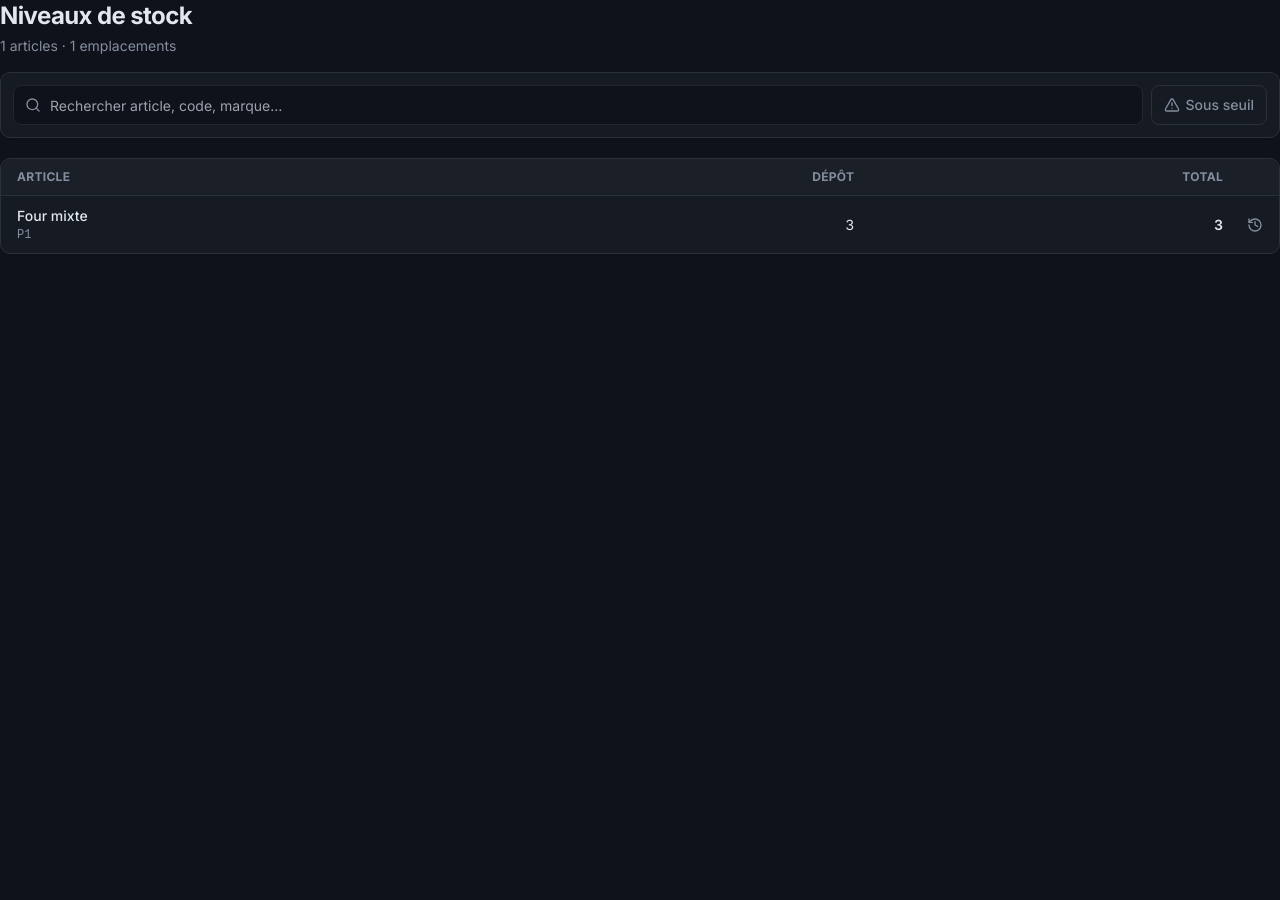
Test: stock levels › shows the movement history only for locations the user may see
Click the text "Four mixte" at (52,216), box [17,206,88,226]
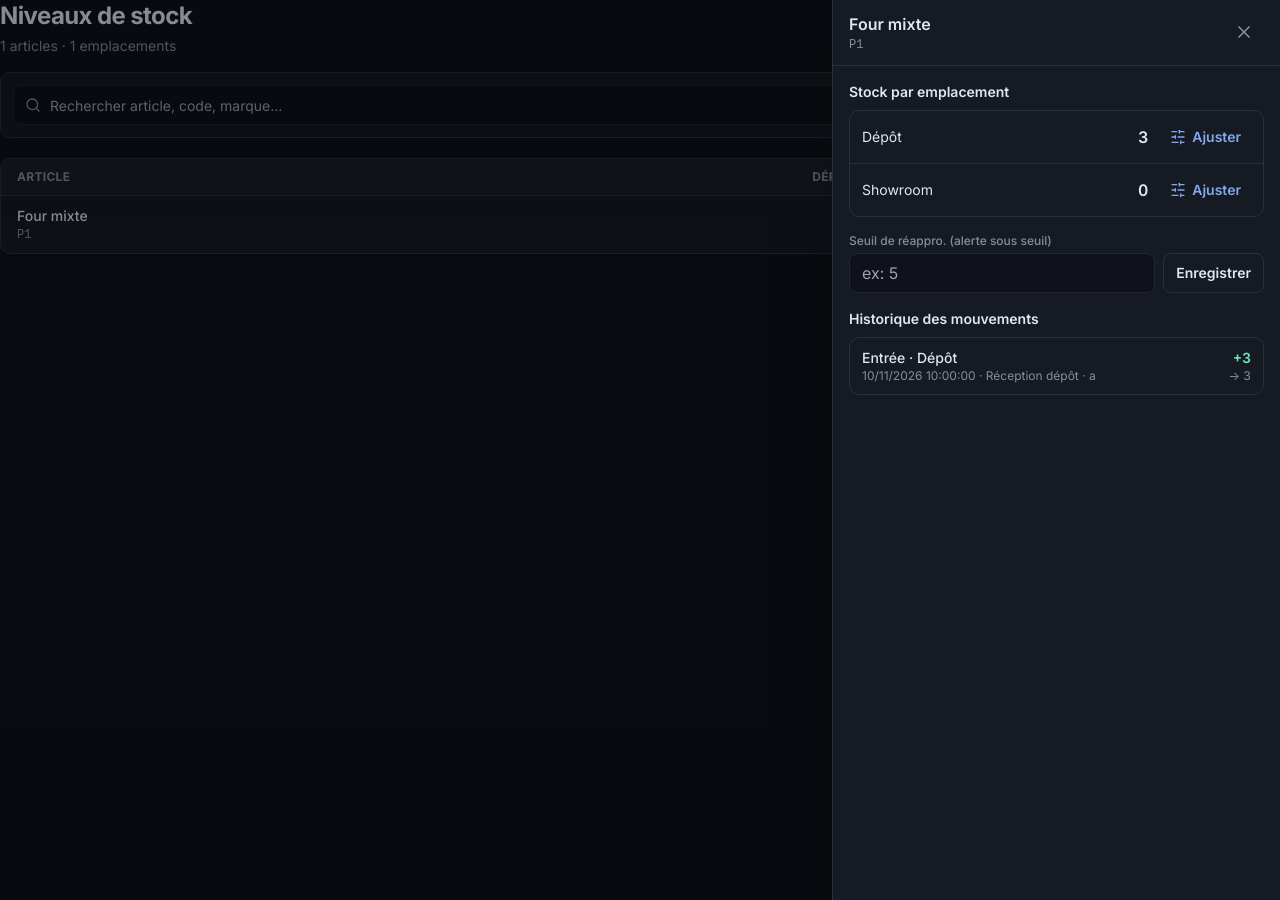
expect the text "10/11/2026 10:00:00 · Réception dépôt · a" is shown: met, box [862,368,1096,384]
